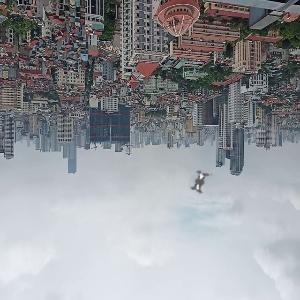drone: (172, 156, 228, 212)
